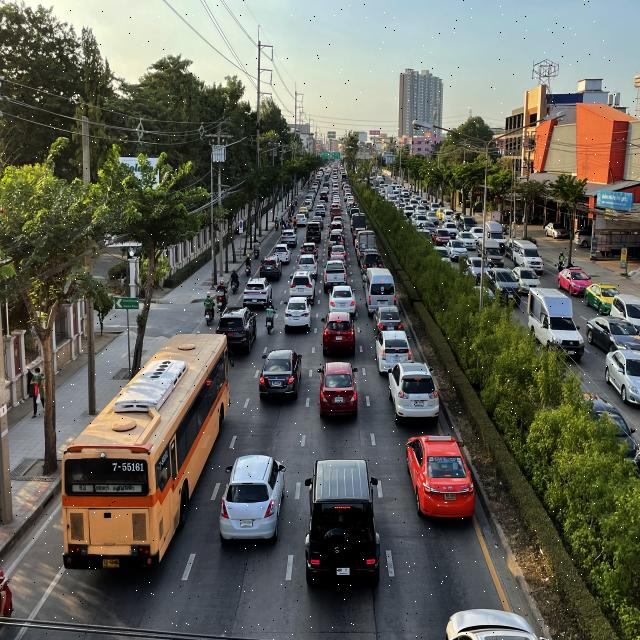bike: (203, 290, 215, 327), (216, 278, 228, 312), (265, 298, 276, 335), (230, 268, 240, 295), (244, 253, 252, 277), (253, 238, 261, 260)
bus: (59, 330, 231, 576)
car: (303, 455, 382, 586), (404, 432, 477, 523), (217, 453, 286, 547), (388, 361, 440, 426), (316, 361, 360, 421), (258, 349, 304, 402), (214, 306, 258, 355), (374, 329, 413, 375), (321, 312, 358, 358), (363, 268, 396, 316), (284, 296, 314, 334), (371, 305, 404, 337), (242, 276, 273, 308), (328, 285, 357, 316), (289, 271, 316, 304), (259, 256, 282, 281)
